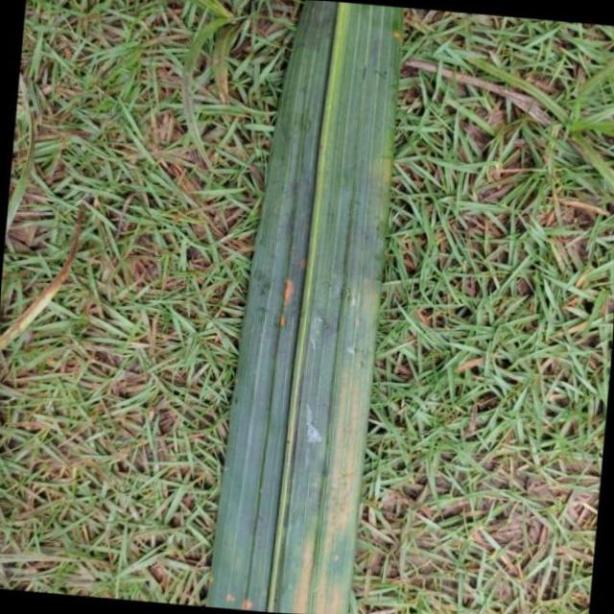Megnesium: (208, 0, 396, 614)
